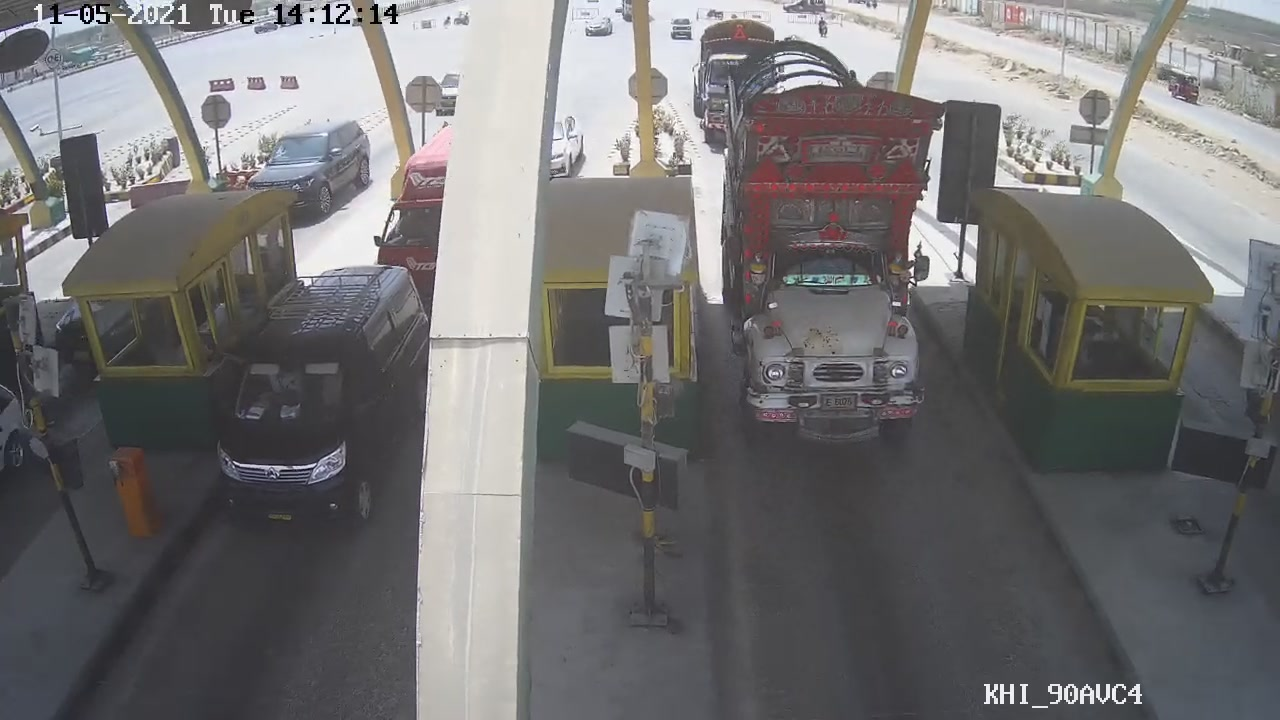F5: (721, 82, 938, 462)
